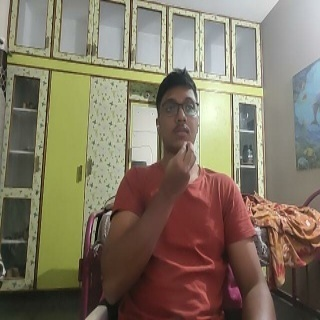Food: (162, 139, 198, 211)
